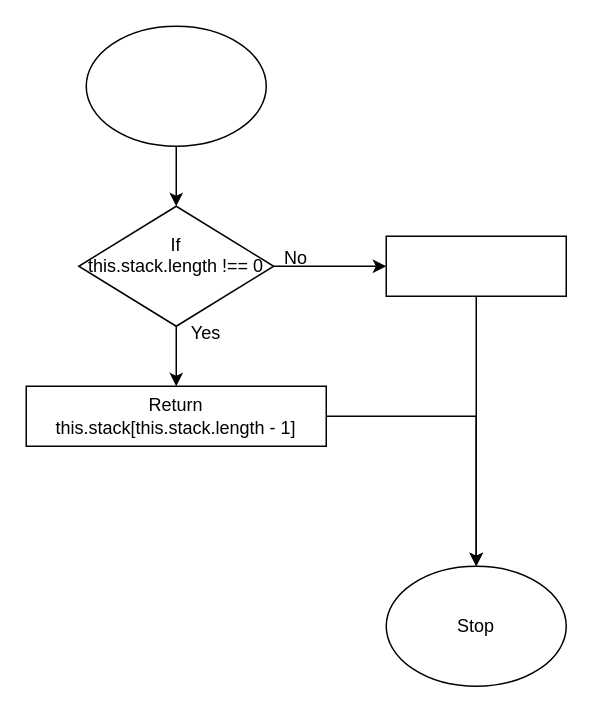
Some shapes in this 593 by 713 pixel diagram are drawn without their labels. Here are the shapes that lost their labels. From the top down, the centre of each, then its label:
At point 175,85: "Start".
At point 475,265: "Return 'No items to peek'".
